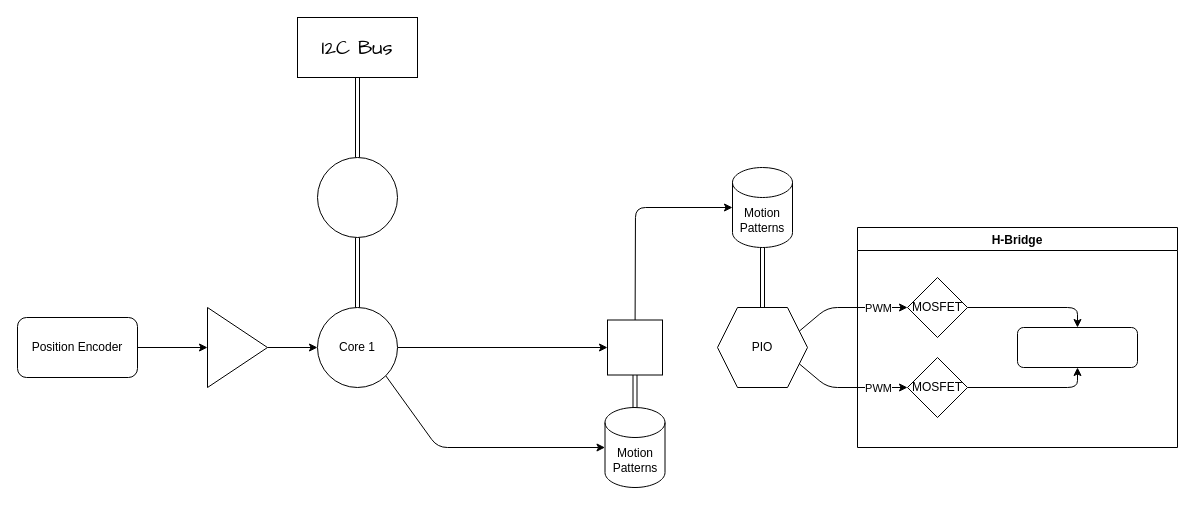
Some shapes in this 1195 by 505 pixel diagram are drawn without their labels. Here are the shapes that lost their labels. From the top down, the centre of each, then its label:
At pixel 357 197: "Core 0".
At pixel 237 347: "ADC".
At pixel 634 347: "DMA".
At pixel 1077 347: "DC Motor".
